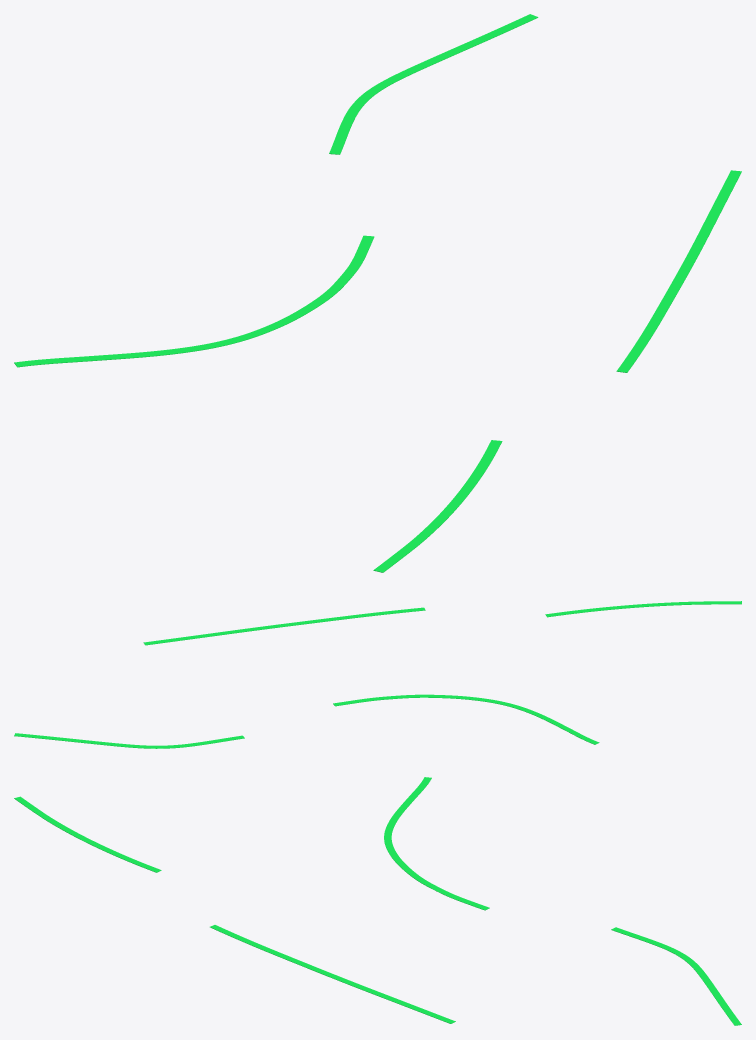
The model's file is MelbourneDrs.glb.
3 renders of one model, top to bottom at view 1: azimuth 30°, elevation 25°; view 2: azimuth 150°, elevation 25°; view 3: azimuth 270°, elevation 25°, orthographic. The views are drawn at different scales.
Parts seen in each view (by area): view 1: DrsStrip_1, DrsStrip_3, DrsStrip_2, DrsStrip_4; view 2: DrsStrip_1, DrsStrip_3, DrsStrip_2, DrsStrip_4; view 3: DrsStrip_3, DrsStrip_1, DrsStrip_2, DrsStrip_4.
Part boxes in pixels (<box>): DrsStrip_1: <box>14,235,374,367</box>; DrsStrip_3: <box>616,170,741,372</box>; DrsStrip_2: <box>329,14,538,154</box>; DrsStrip_4: <box>373,440,502,572</box>; DrsStrip_1: <box>333,694,599,744</box>; DrsStrip_3: <box>143,607,425,645</box>; DrsStrip_2: <box>14,733,244,748</box>; DrsStrip_4: <box>545,601,741,617</box>; DrsStrip_3: <box>210,925,455,1023</box>; DrsStrip_1: <box>384,777,489,910</box>; DrsStrip_2: <box>611,927,741,1025</box>; DrsStrip_4: <box>14,796,161,872</box>.
Bounding box in the file's own units: 10.8 × 0.006 × 13.37.
